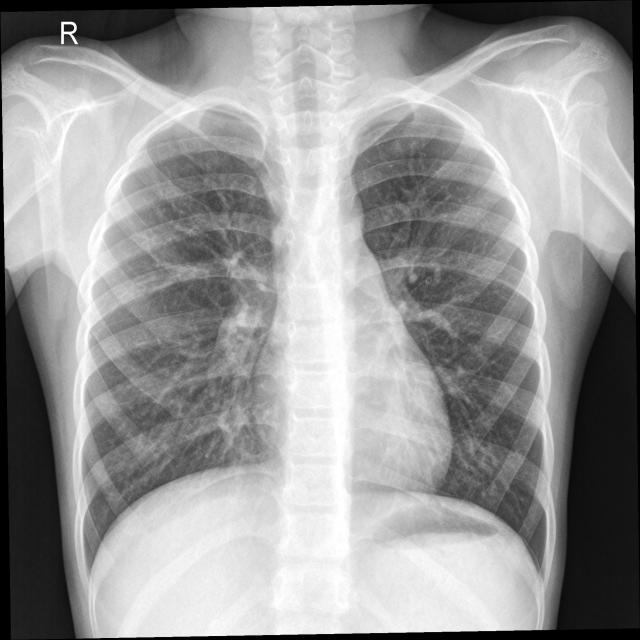no-pneumonia: (353, 107, 550, 569), (82, 109, 280, 560)
